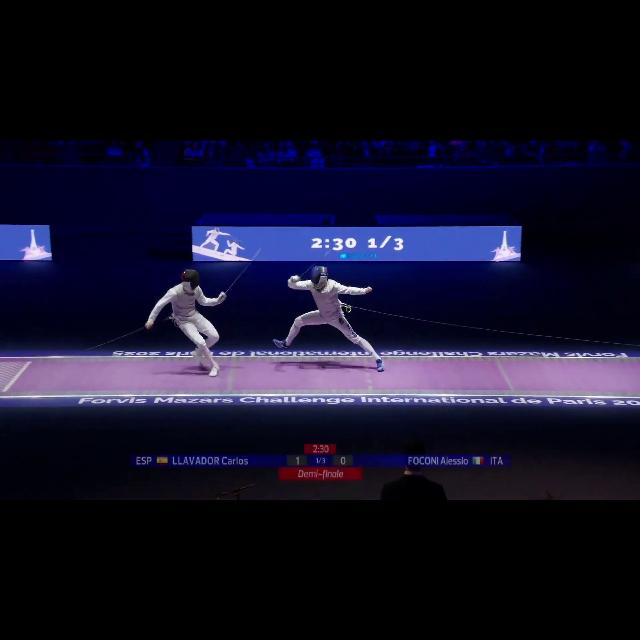blade: (217, 246, 263, 300), (293, 243, 339, 280)
